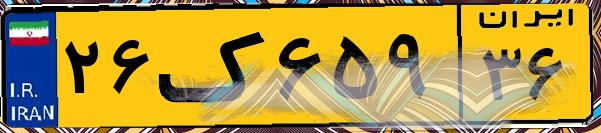2: (57, 26, 110, 100)
3: (475, 38, 525, 113)
5: (330, 28, 385, 110)
6: (270, 28, 330, 110), (525, 38, 570, 115), (110, 28, 158, 98)
9: (385, 28, 445, 110)
ک: (158, 12, 270, 120)
